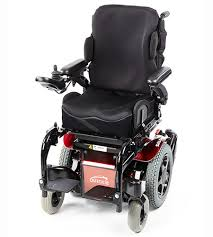wheelchair: (27, 7, 183, 224)
